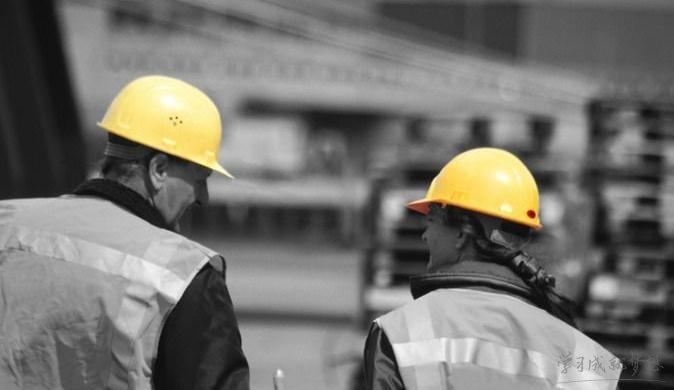helmet: (89, 68, 232, 231), (400, 139, 549, 273)
